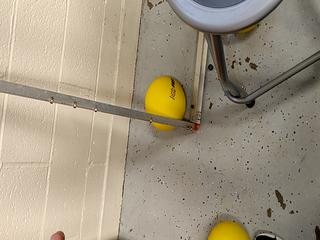power_cell: (143, 66, 193, 132), (205, 218, 253, 240)
